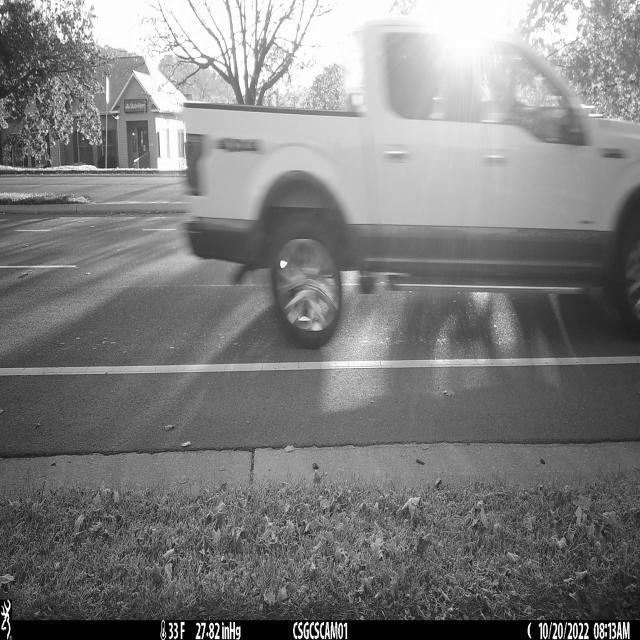Pickup: (182, 17, 640, 345)
